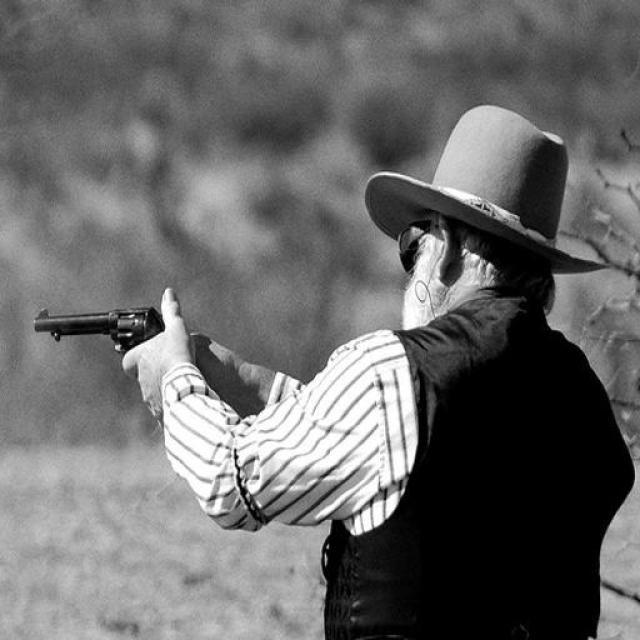pistol: (30, 301, 165, 353)
